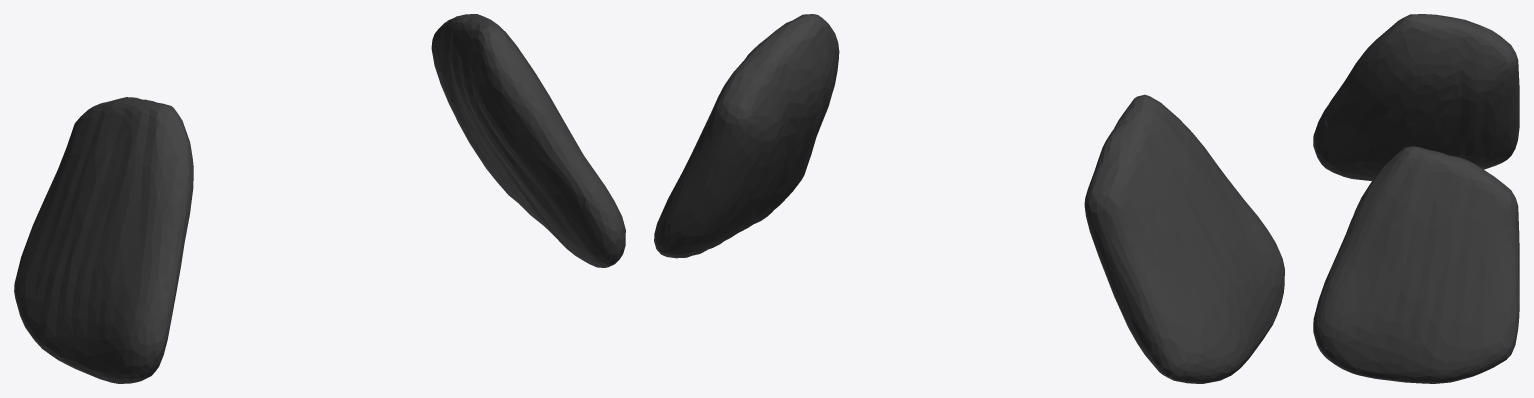
The model's file is m_masseter_profundus.glb.
The picture shows the model from 3 angles, left to right: view 1: azimuth 30°, elevation 25°; view 2: azimuth 150°, elevation 25°; view 3: azimuth 270°, elevation 25°; orthographic projection. The views are drawn at different scales.
Visible parts, largest first — view 1: m_masseter_profundus; view 2: m_masseter_profundus; view 3: m_masseter_profundus.
Boxes of the visible parts, bbox=[...] form: m_masseter_profundus: bbox=[14, 14, 625, 383]; m_masseter_profundus: bbox=[654, 14, 1284, 383]; m_masseter_profundus: bbox=[1313, 14, 1519, 383].
Bounding box in the file's own units: 0.00255 × 0.00108 × 0.00101.
Materials: 1 (1 with a texture image).
